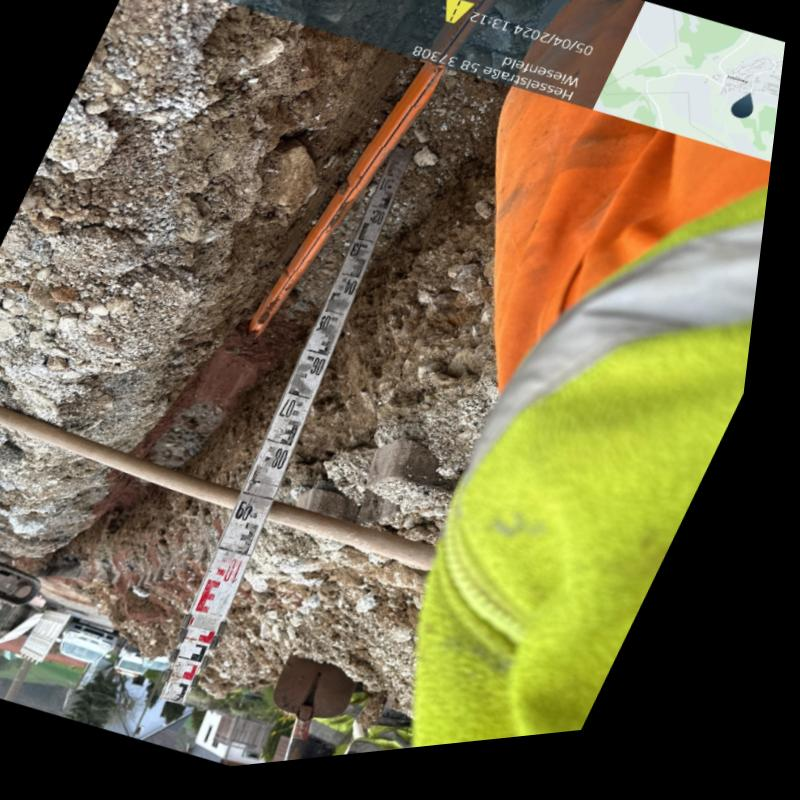Orang-Speednetrohrchen: (258, 73, 447, 341)
